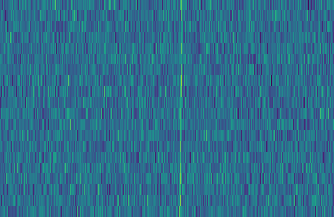signal: (174, 0, 185, 217)
